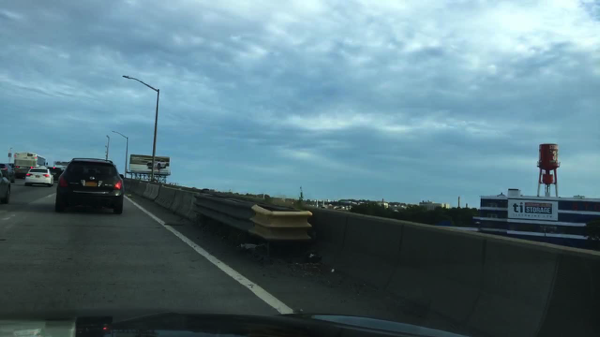bus: (13, 151, 48, 179)
car: (54, 158, 126, 214), (25, 166, 54, 187), (1, 170, 13, 204), (1, 162, 15, 183), (47, 166, 63, 181)
